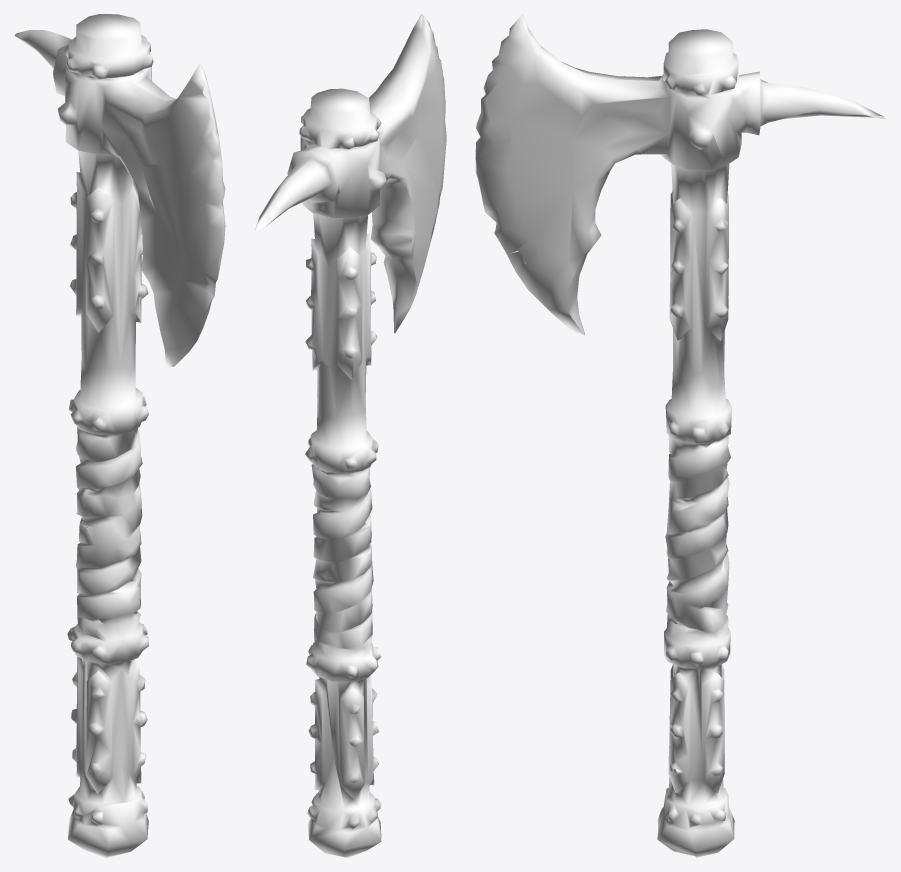
The model's file is axe_hearth.glb.
3 renders of one model, left to right at view 1: azimuth 30°, elevation 25°; view 2: azimuth 150°, elevation 25°; view 3: azimuth 270°, elevation 25°, orthographic. The views are drawn at different scales.
Visible parts, largest first — view 1: axe_hearth; view 2: axe_hearth; view 3: axe_hearth.
Boxes of the visible parts, <box> form: axe_hearth: <box>14,14,225,857</box>; axe_hearth: <box>254,14,446,857</box>; axe_hearth: <box>475,14,885,857</box>.
Bounding box in the file's own units: 0.1695 × 1.4 × 0.6187.
1 material, 1 textured.
